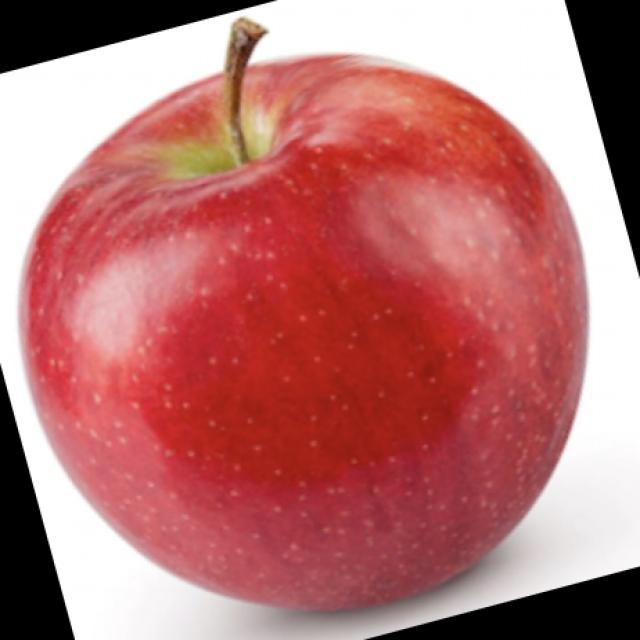Fresh Apple: (23, 52, 575, 615)
